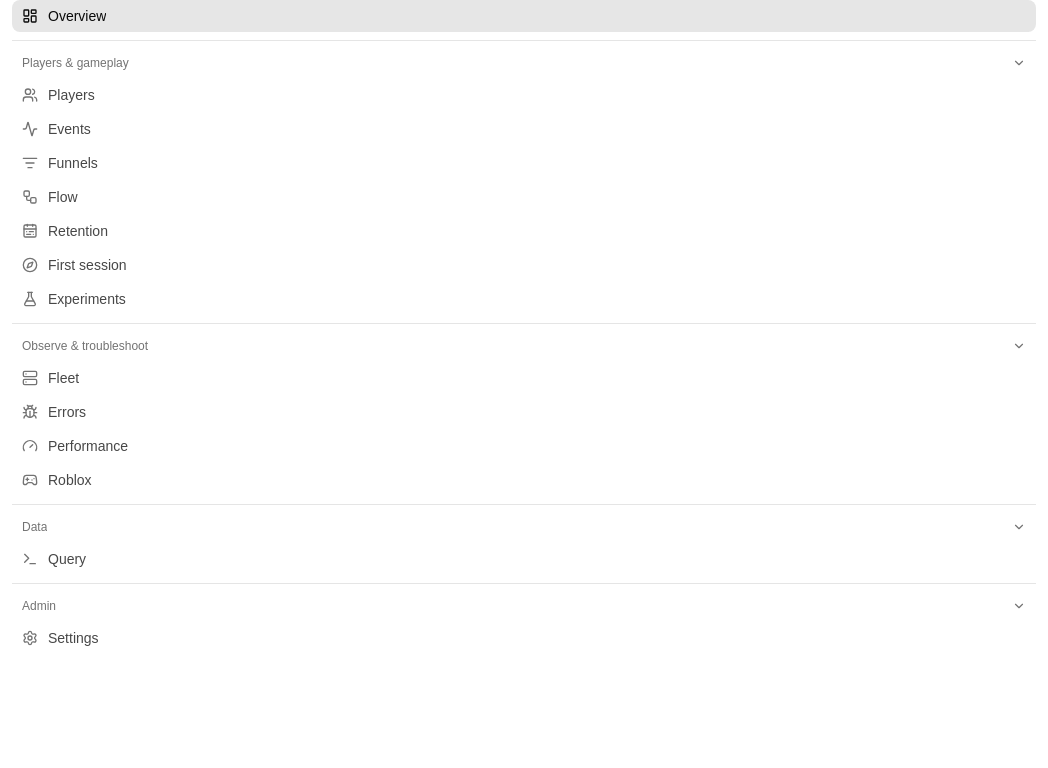
it: sidebar › still works when storage throws
The width and height of the screenshot is (1048, 768).
Expected: the link "Funnels" is shown, [22,155,98,171]
Click the button "Players & gameplay" at [75, 63], box [12,49,1036,77]
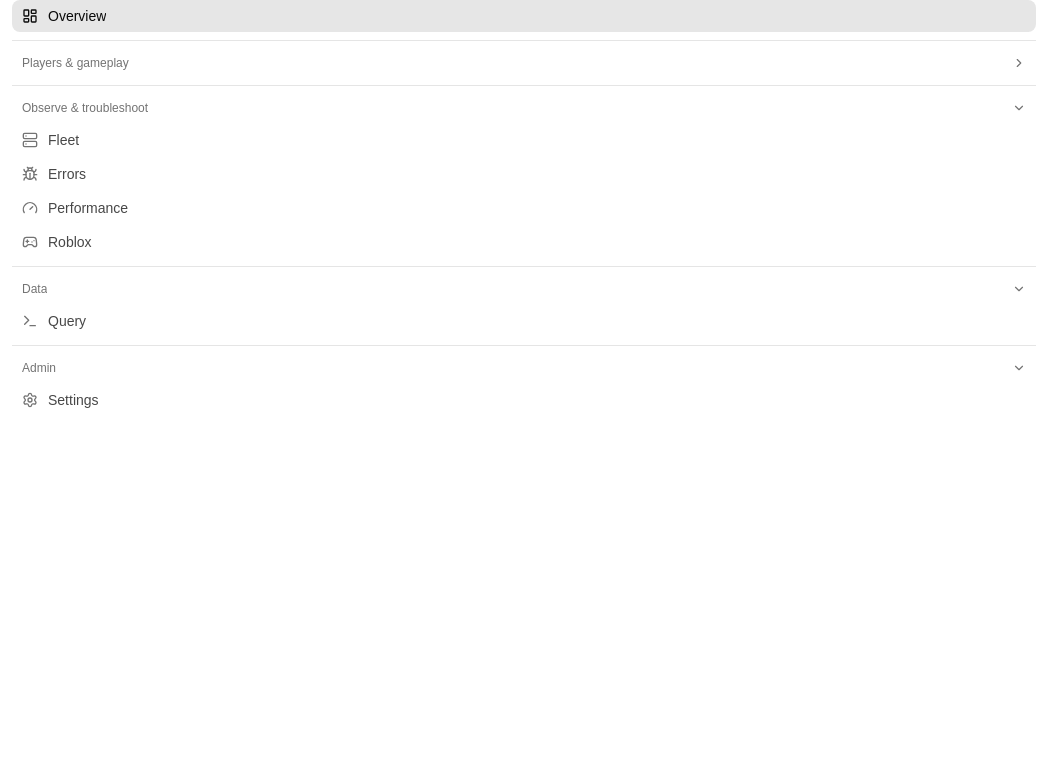
Result: the link "Funnels" is gone
Click the button "Players & gameplay" at [75, 63], box [12,49,1036,77]
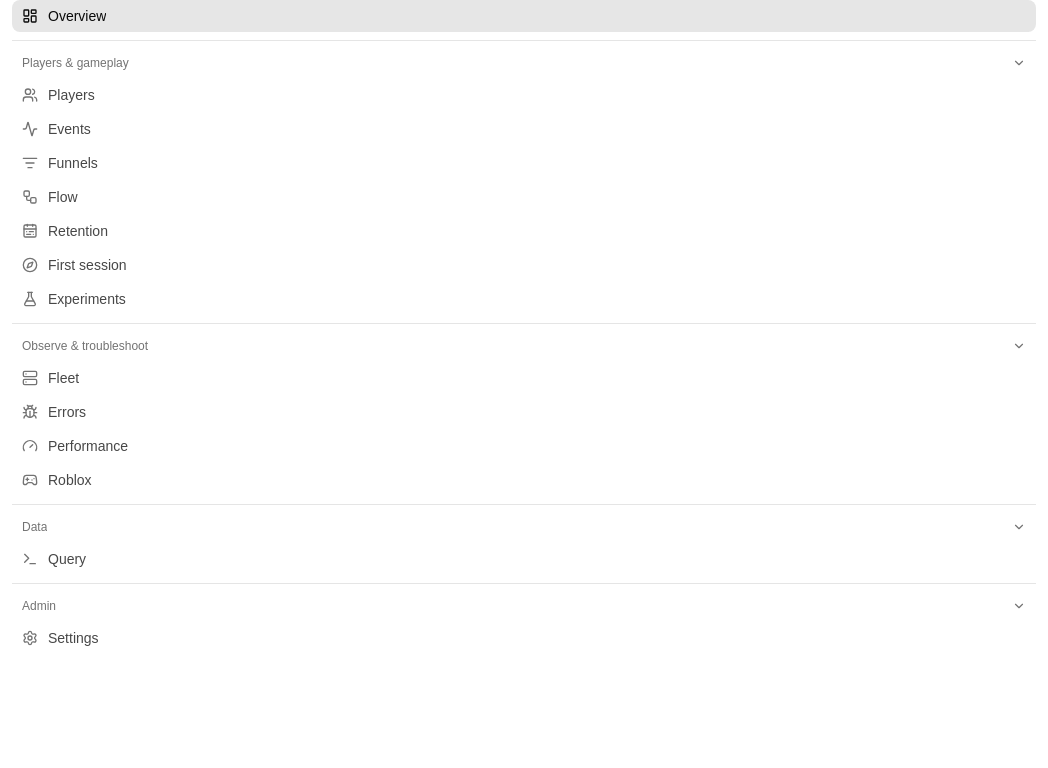
Result: the link "Funnels" is shown at [22,155,98,171]
